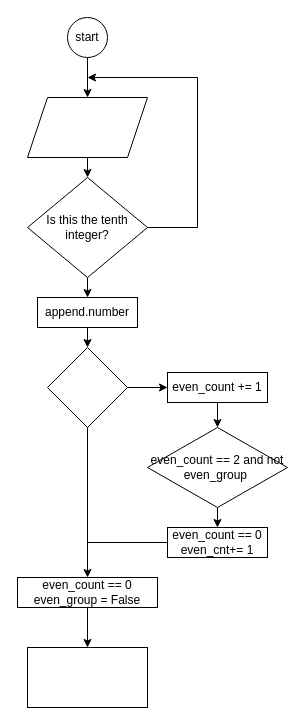
Some shapes in this 305 by 725 pixel diagram are drawn without their labels. Each missing label, with the centre of its shape:
ask user for input number: the point at 87,127
num % 2 == 0: the point at 87,387
print evencnt: the point at 87,677
